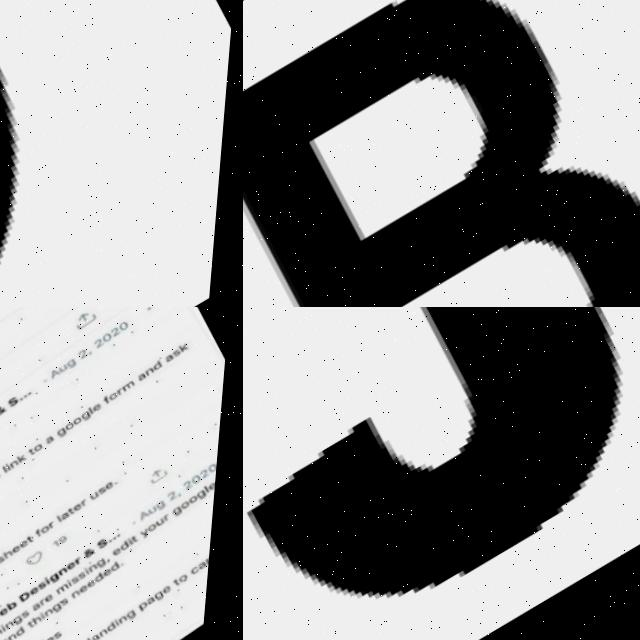5: (65, 536, 76, 547)
9: (0, 0, 158, 307)
B: (243, 0, 640, 307)
J: (243, 307, 640, 640)
